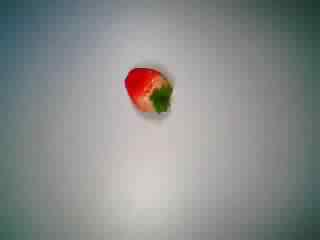strawberry: (114, 60, 180, 126)
